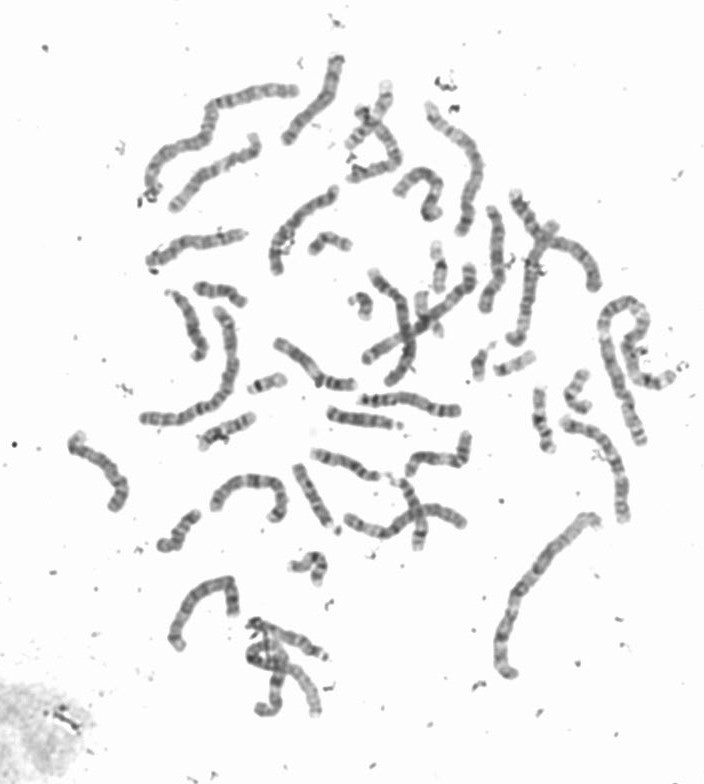chromosomes: (135, 81, 300, 210), (491, 506, 604, 689), (593, 288, 677, 457), (360, 261, 483, 370), (139, 305, 241, 433), (506, 184, 606, 298), (165, 127, 266, 220), (556, 415, 638, 529), (426, 93, 489, 237), (265, 181, 344, 284), (506, 215, 560, 347), (247, 638, 329, 723), (280, 54, 351, 147), (367, 265, 420, 389), (166, 571, 246, 653), (347, 104, 410, 197), (139, 226, 246, 278), (70, 428, 133, 516), (344, 498, 472, 539), (272, 334, 360, 393), (208, 471, 293, 530), (242, 615, 338, 666), (290, 459, 345, 537), (345, 75, 398, 149), (160, 288, 211, 364), (477, 202, 510, 317), (395, 162, 450, 228), (404, 429, 477, 478), (358, 389, 464, 420), (386, 477, 429, 553), (193, 412, 265, 453), (308, 447, 383, 485), (252, 651, 294, 718), (150, 506, 203, 558), (526, 385, 560, 461), (322, 402, 407, 432), (190, 276, 250, 311), (565, 361, 596, 421), (286, 548, 330, 590), (493, 348, 542, 384), (413, 290, 445, 345), (303, 224, 356, 256), (467, 338, 500, 383), (241, 370, 291, 397), (432, 238, 449, 299), (348, 292, 377, 324)
